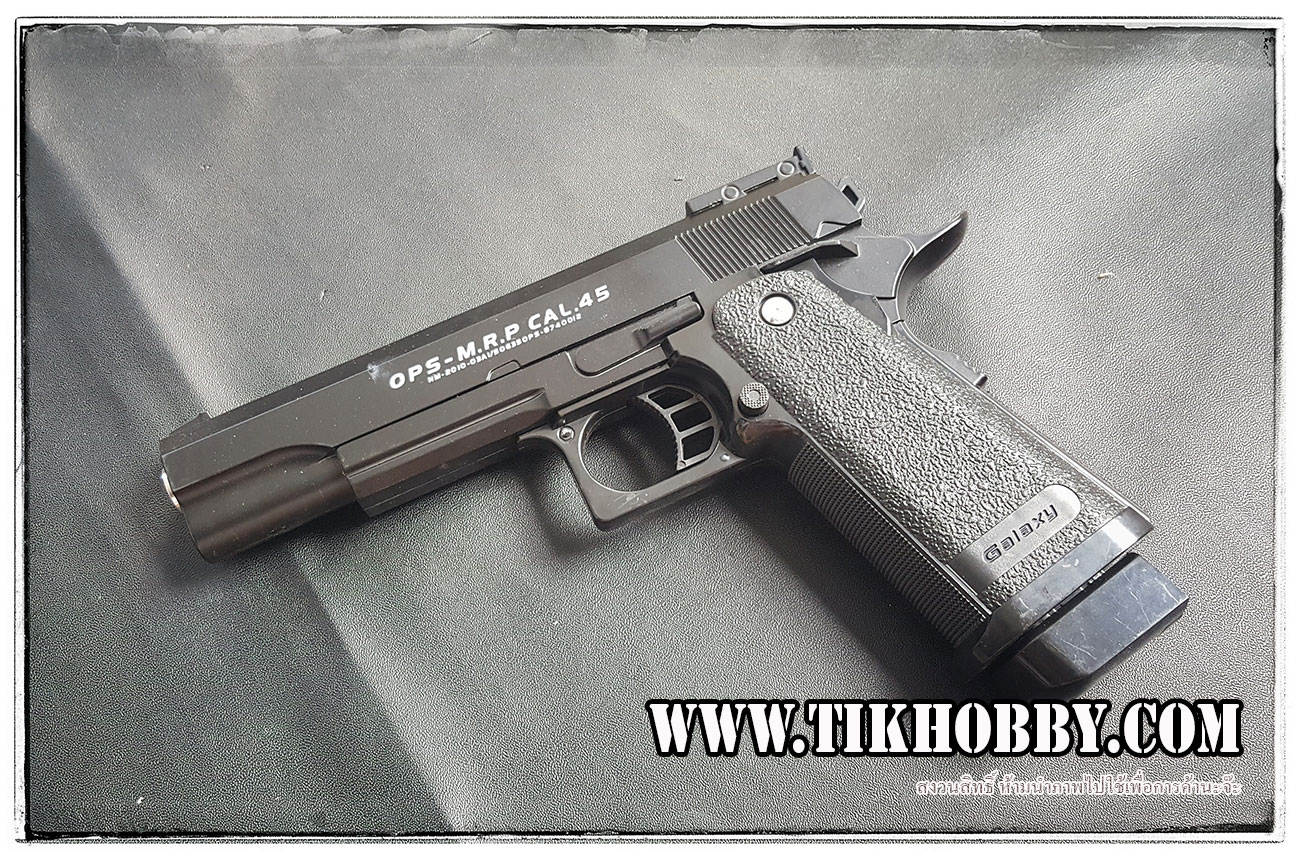gun: (139, 135, 1210, 698)
